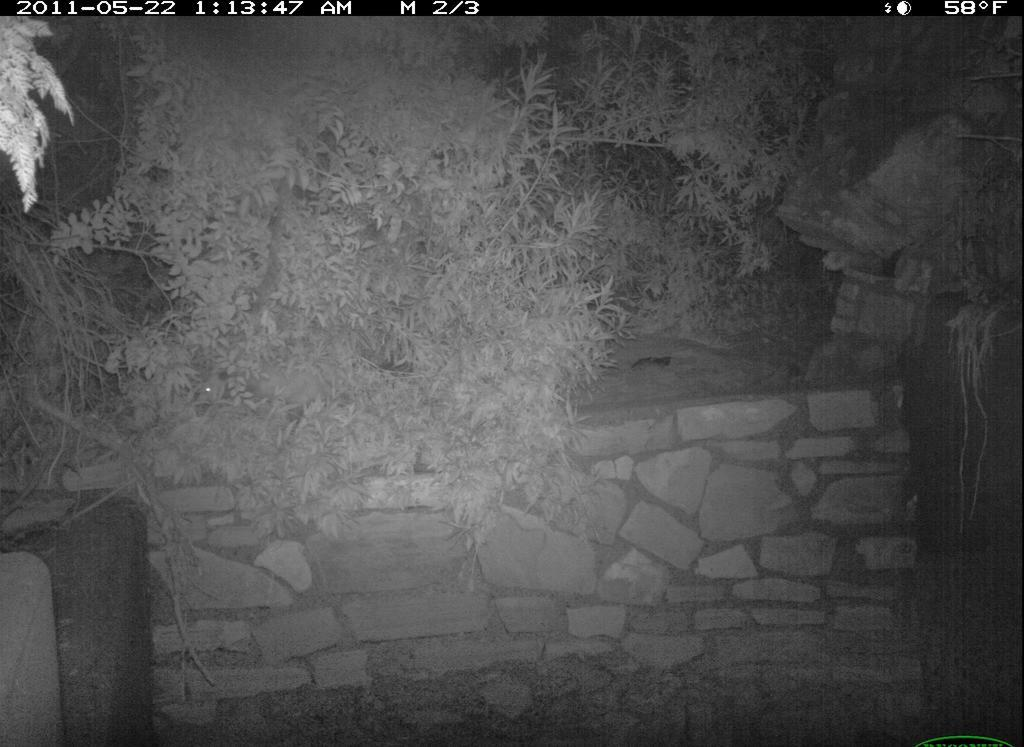opossum: (191, 354, 341, 432)
